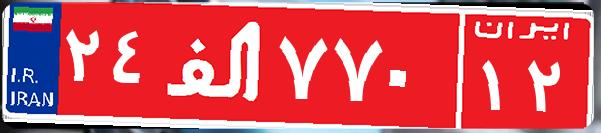0: (385, 28, 445, 110)
1: (475, 38, 525, 113)
2: (57, 26, 110, 107), (525, 38, 570, 115)
4: (110, 28, 158, 105)
7: (273, 28, 330, 110), (330, 28, 385, 110)
الف: (158, 15, 273, 115)
